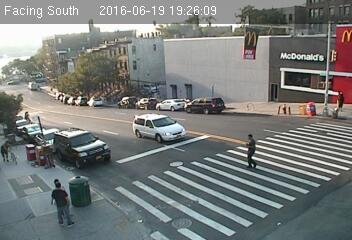neg: (117, 58, 131, 78), (23, 107, 33, 122), (151, 80, 161, 93)
pos: (40, 183, 73, 227), (235, 132, 263, 169), (332, 88, 350, 112)
